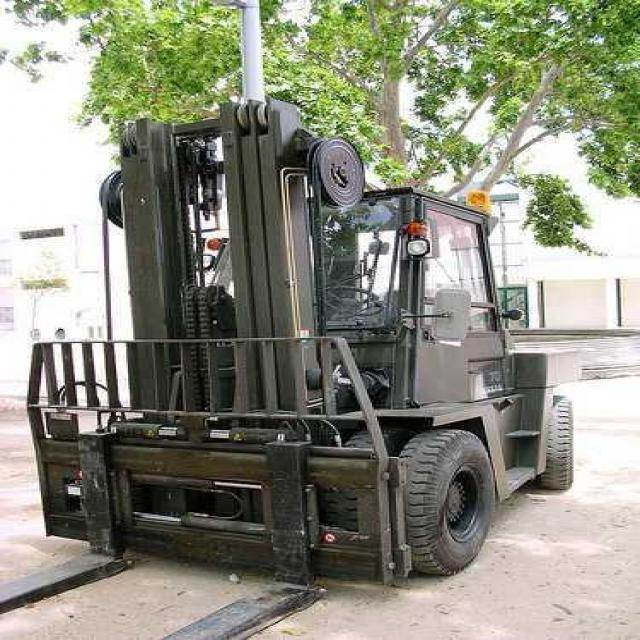Chariot elevateur: (0, 97, 577, 639)
